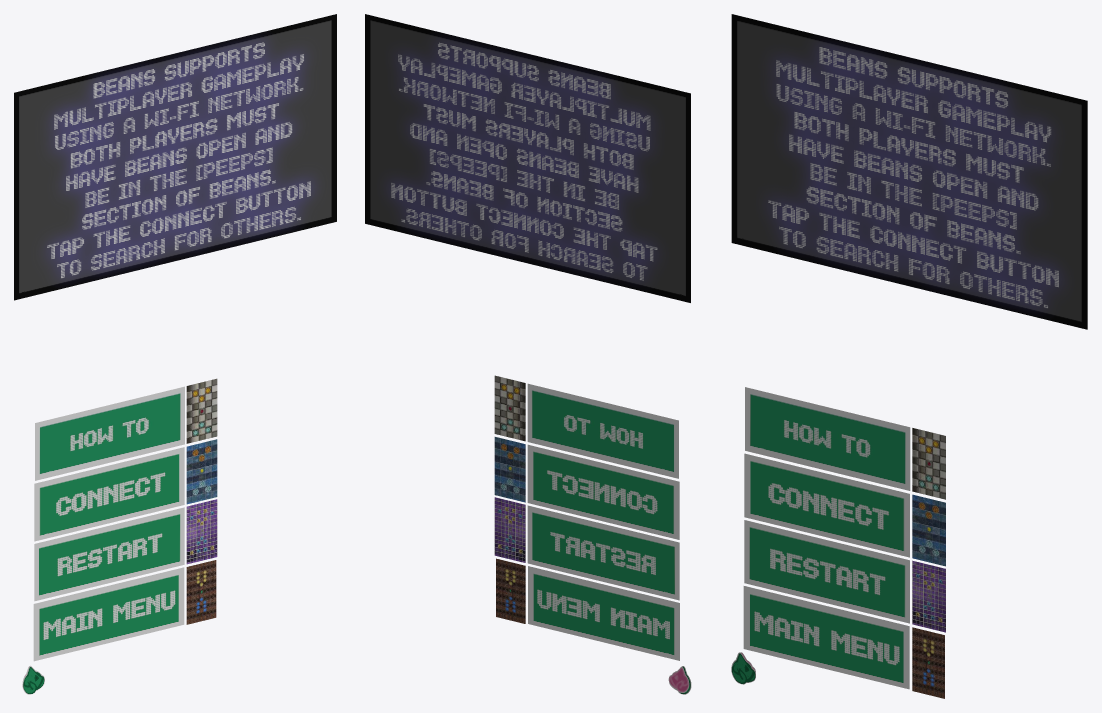
File: SubMenuScene.dae
The picture shows the model from 3 angles, left to right: view 1: azimuth 30°, elevation 25°; view 2: azimuth 150°, elevation 25°; view 3: azimuth 330°, elevation 25°; orthographic projection. The views are drawn at different scales.
Parts seen in each view (by area): view 1: dirmulti, connect, mainmenubutton, howtomulti, newgame, multiboard2, multiboard3, multiboard1, multiboard4; view 2: dirmulti, connect, howtomulti, newgame, mainmenubutton, multiboard3, multiboard1, multiboard2, multiboard4; view 3: dirmulti, connect, howtomulti, mainmenubutton, newgame, multiboard2, multiboard3, multiboard1, multiboard4.
Boxes of the visible parts, box(x1,y1,x2,y2) form: dirmulti: box(14, 14, 336, 300); connect: box(34, 447, 184, 541); mainmenubutton: box(33, 567, 184, 661); howtomulti: box(35, 386, 184, 480); newgame: box(34, 507, 184, 601); multiboard2: box(186, 439, 217, 504); multiboard3: box(186, 499, 217, 564); multiboard1: box(186, 378, 217, 443); multiboard4: box(186, 560, 216, 624); dirmulti: box(365, 14, 690, 302); connect: box(527, 444, 679, 539); howtomulti: box(527, 383, 678, 478); newgame: box(527, 505, 679, 600); mainmenubutton: box(528, 566, 679, 660); multiboard3: box(494, 497, 525, 562); multiboard1: box(494, 375, 525, 441); multiboard2: box(494, 437, 525, 502); multiboard4: box(496, 558, 525, 623); dirmulti: box(731, 14, 1087, 329); connect: box(744, 453, 909, 557); howtomulti: box(745, 387, 910, 490); mainmenubutton: box(743, 586, 909, 689); newgame: box(744, 520, 909, 623); multiboard2: box(912, 494, 945, 566); multiboard3: box(912, 560, 945, 632); multiboard1: box(912, 428, 945, 499); multiboard4: box(912, 627, 944, 698).
Size of the model in its own units: 35.43 by 0.8396 by 62.94.
11 materials, 11 textured.
